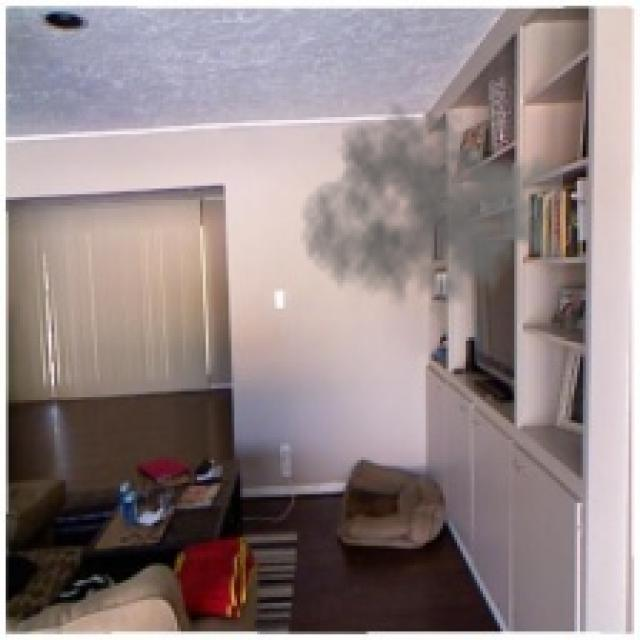smoke: (300, 100, 563, 331)
